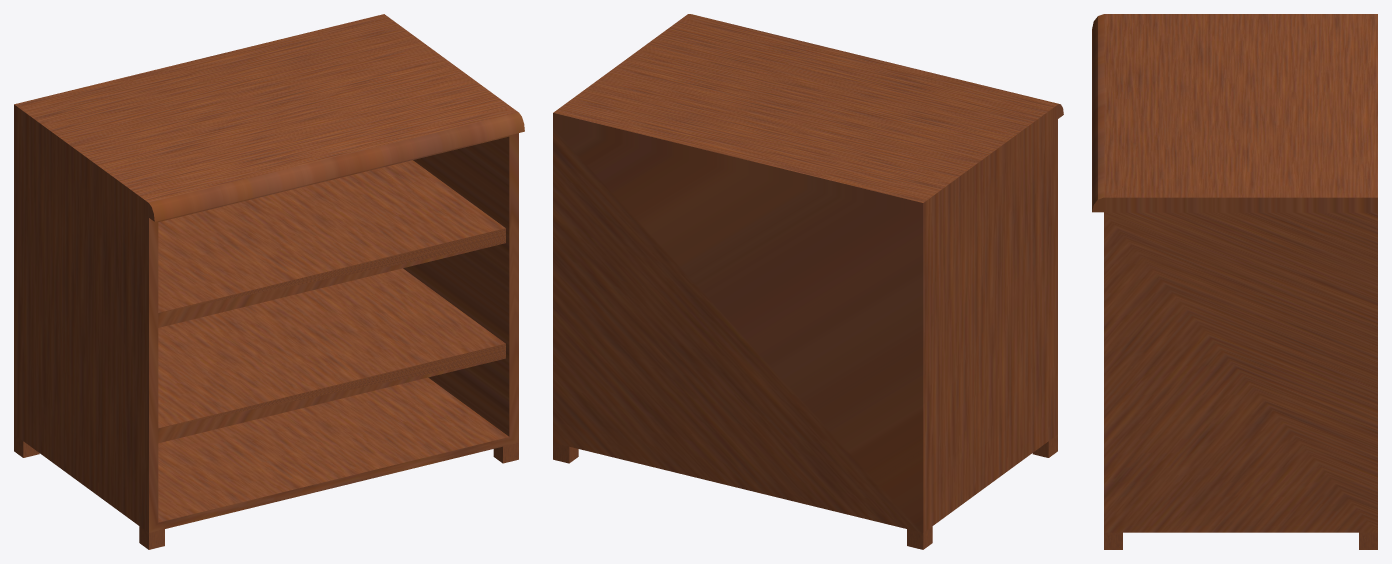
Rendered from K_chenschrank_offen_1.fbx.
3 views of the same model, side by side, from view 1: azimuth 30°, elevation 25°; view 2: azimuth 150°, elevation 25°; view 3: azimuth 270°, elevation 25° (orthographic).
Visible parts, largest first — view 1: Küchenschrank offen 1m; view 2: Küchenschrank offen 1m; view 3: Küchenschrank offen 1m.
Boxes of the visible parts, x1,y1,x2,y2 form: Küchenschrank offen 1m: (14, 14, 524, 549); Küchenschrank offen 1m: (553, 14, 1063, 549); Küchenschrank offen 1m: (1092, 14, 1377, 549).
Bounding box in the file's own units: 1 × 0.8954 × 0.658.
